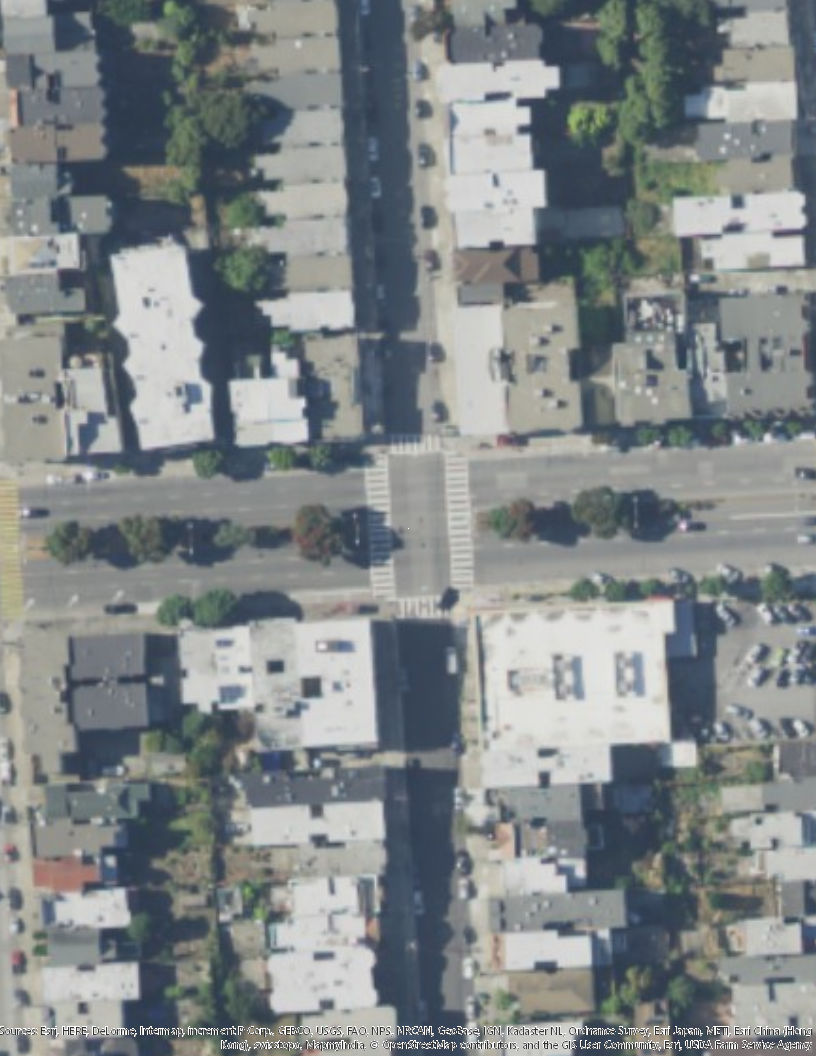zebracross: (361, 456, 398, 601), (440, 453, 475, 593), (2, 486, 29, 619), (393, 596, 453, 624), (390, 434, 442, 458)
